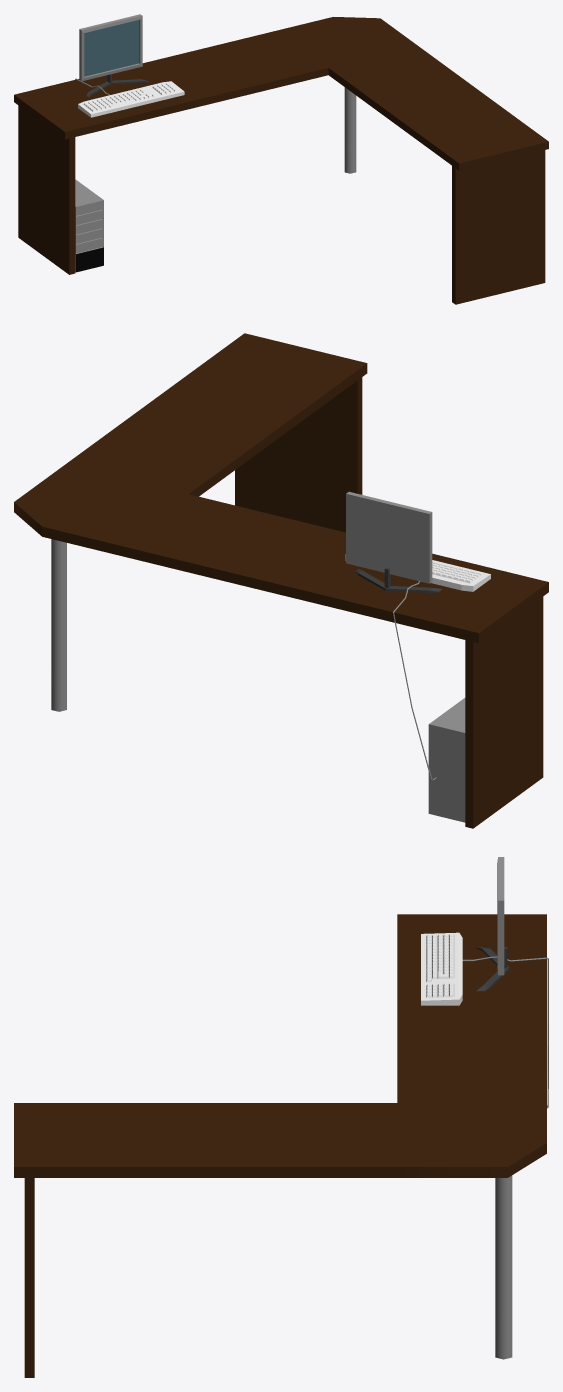
The model's file is EscritorioOficina.FBX.
The picture shows the model from 3 angles, top to bottom: view 1: azimuth 30°, elevation 25°; view 2: azimuth 150°, elevation 25°; view 3: azimuth 270°, elevation 25°; orthographic projection. The views are drawn at different scales.
Parts seen in each view (by area): view 1: Escritorio; view 2: Escritorio; view 3: Escritorio.
Part boxes in pixels (x1,y1,x2,y2): Escritorio: (14, 14, 548, 304); Escritorio: (14, 333, 548, 828); Escritorio: (14, 857, 548, 1377).
Bounding box in the file's own units: 9.29 × 5.23 × 8.32.
